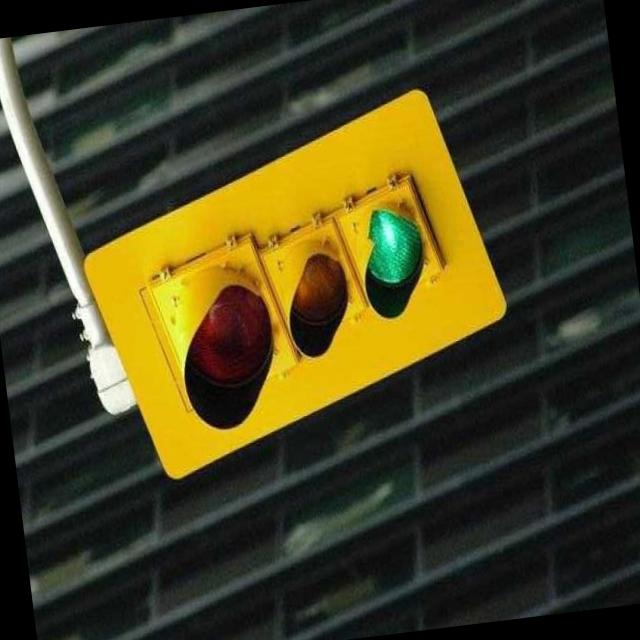green-lights: (341, 146, 446, 329)
